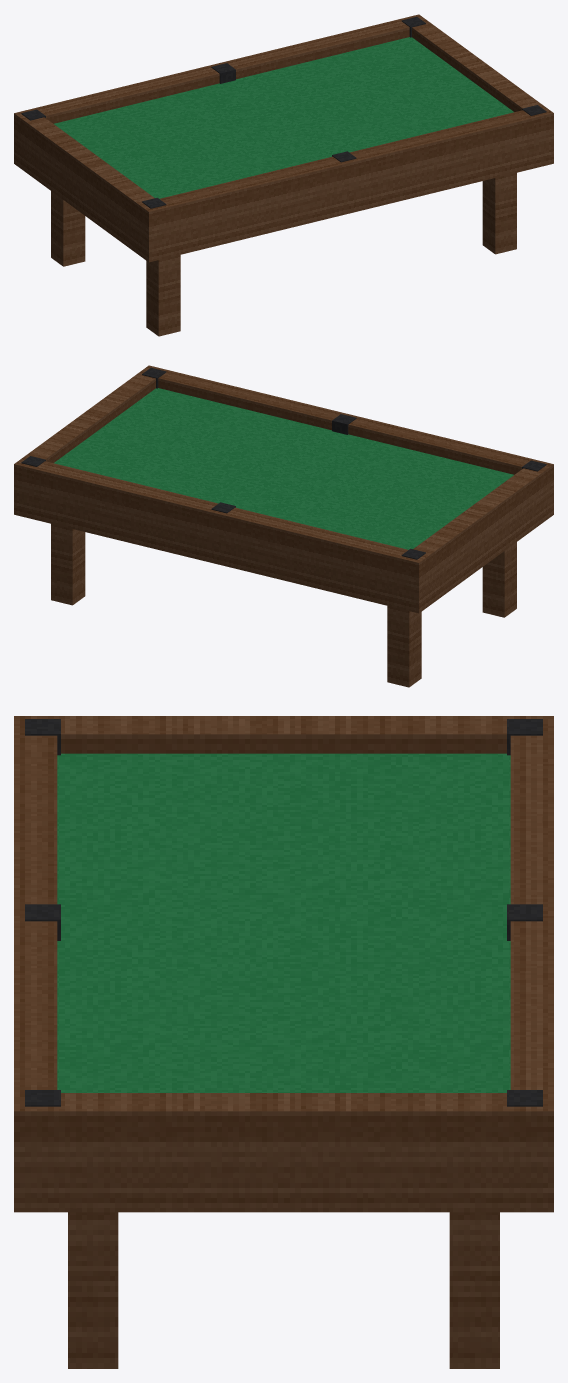
File: pool_table.glb
3 views of the same model, one above another, from view 1: azimuth 30°, elevation 25°; view 2: azimuth 150°, elevation 25°; view 3: azimuth 270°, elevation 25° (orthographic). The views are drawn at different scales.
Parts seen in each view (by area): view 1: pool_table; view 2: pool_table; view 3: pool_table.
Part boxes in pixels (bbox=[...]): pool_table: bbox=[14, 14, 553, 336]; pool_table: bbox=[14, 365, 553, 687]; pool_table: bbox=[14, 716, 553, 1368].
Bounding box in the file's own units: 2.6 × 0.865 × 1.5.
Materials: 3 (3 with a texture image).
